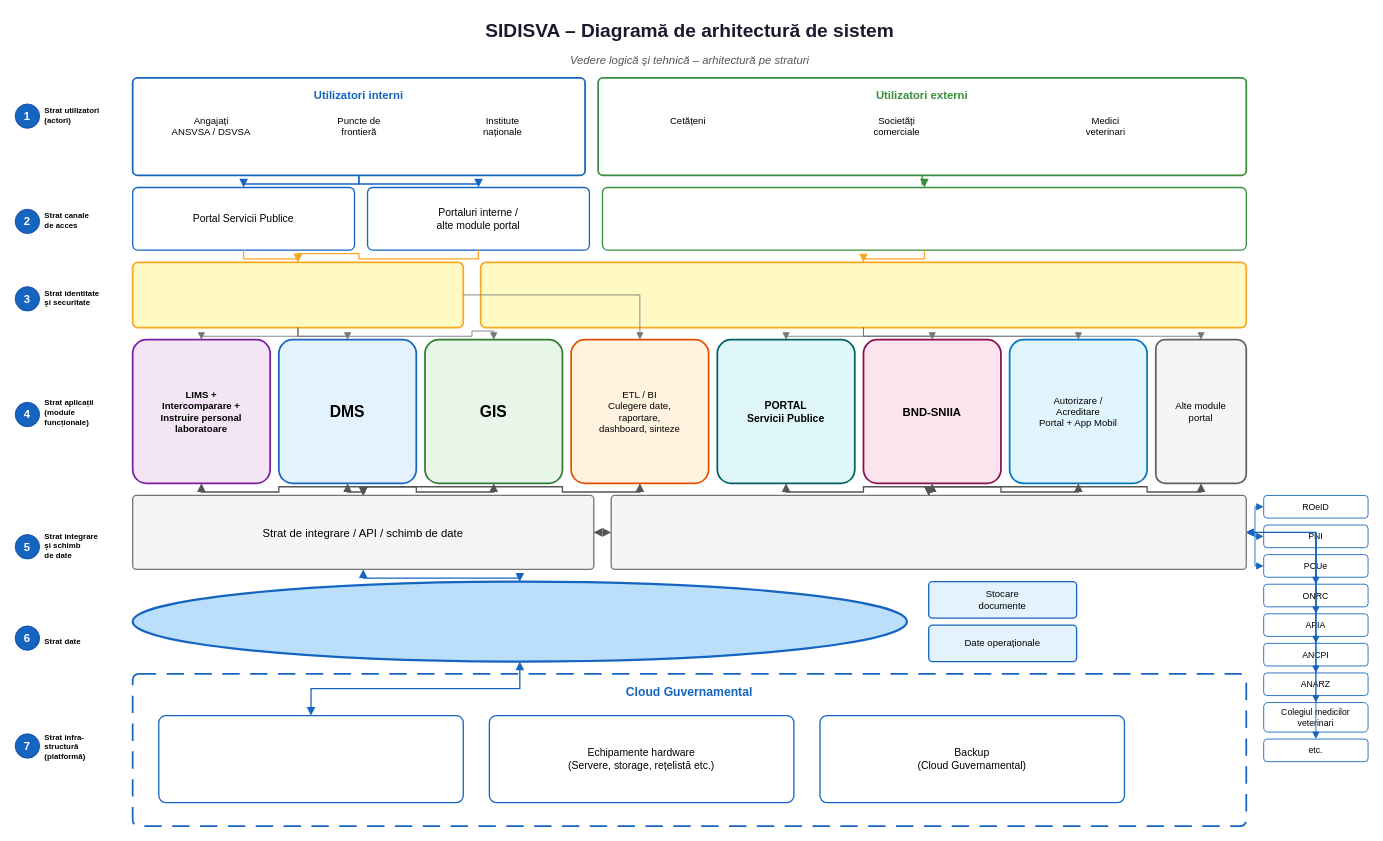
The diagram is 1383 pixels wide and 841 high, and some of its shapes have lost their labels. The shapes that lost their labels are listed below. From the top down, each one's centre as x and y in pixels, then its label:
At point (924, 218): "Aplicații mobile Autorizare / Acreditare – Portal + App Mob".
At point (297, 294): "Single Sign-On (SSO)".
At point (863, 294): "Securitate autentificare, autorizare, audit, protecție acces".
At point (928, 532): "Integrări externe şi prelăuări de date".
At point (519, 621): "DB level ofertat – SQL Server".
At point (311, 759): "Echipamente securitate (Firewall, WAF etc.)".
